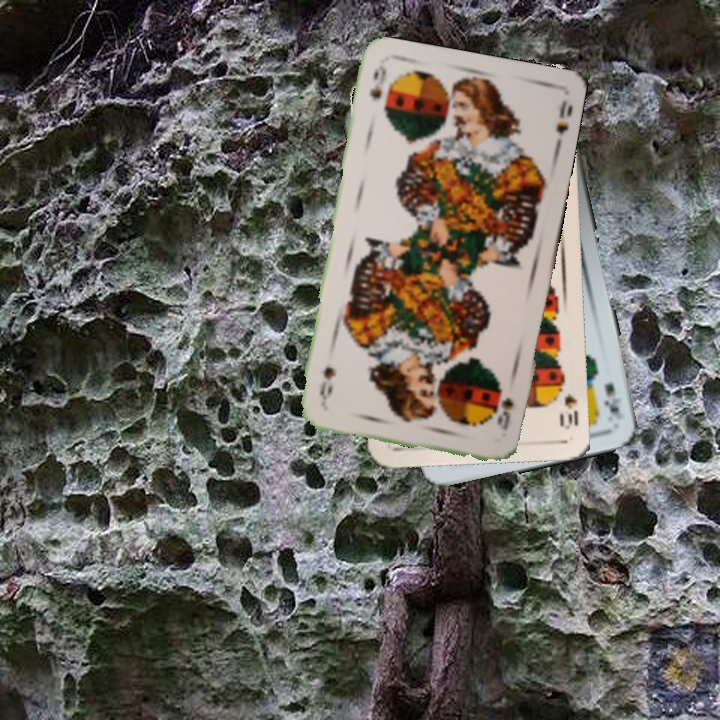EK: (600, 379, 623, 419)
S10: (554, 377, 581, 432)
SO: (492, 385, 516, 433), (365, 61, 389, 103)
